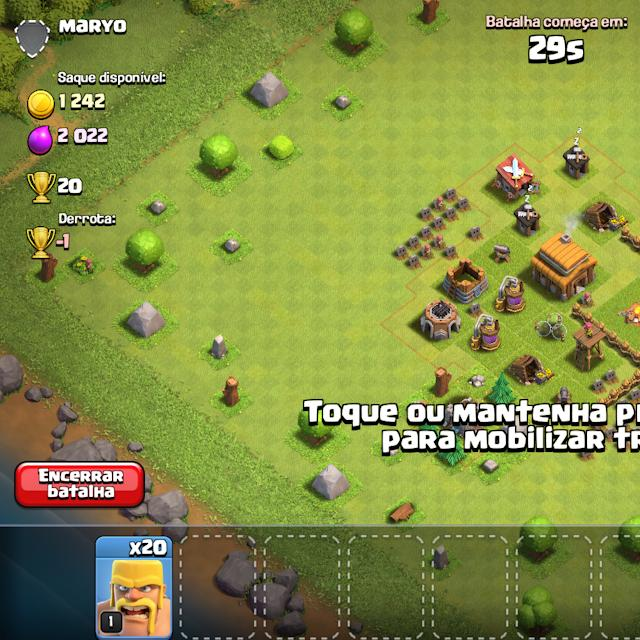Arqueira: (570, 321, 606, 370)
Canhao: (490, 242, 514, 264), (554, 385, 574, 403)
ValueCoin: (56, 88, 114, 117)
ValueElixir: (54, 123, 114, 152)
